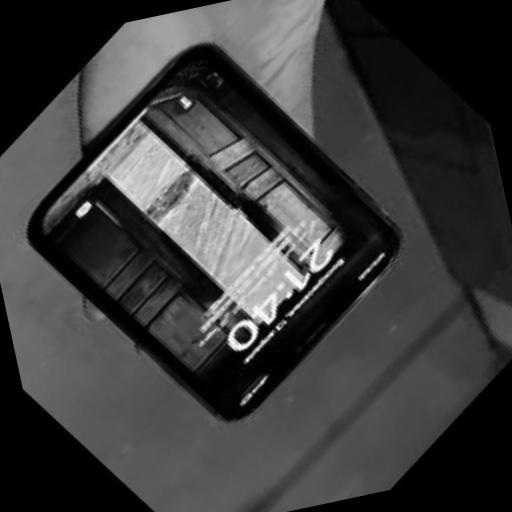phone: (18, 28, 416, 431)
